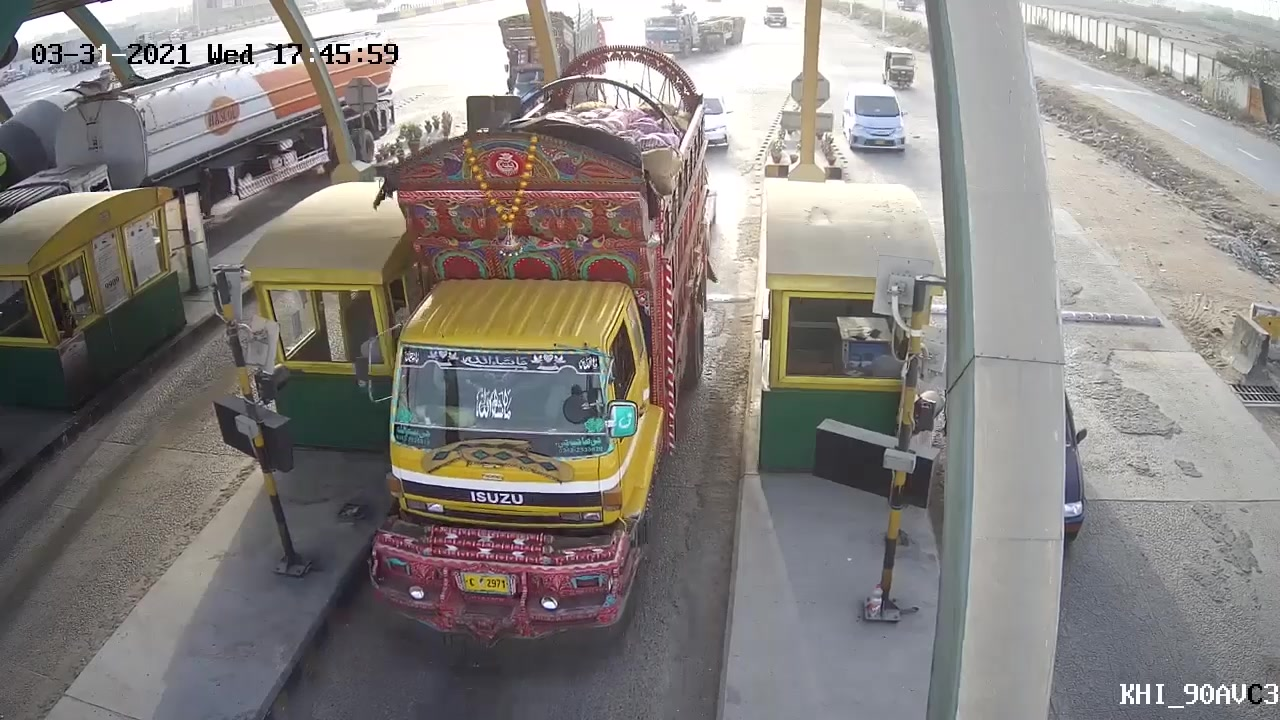F5: (362, 37, 728, 647)
